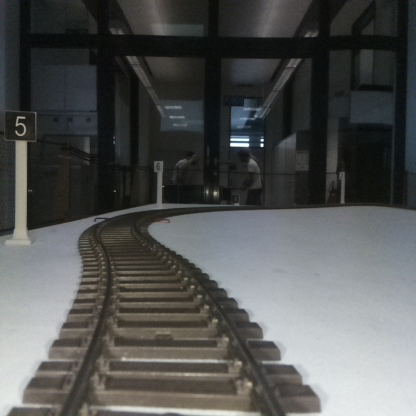black-info-5: (5, 112, 35, 242)
white-info-6: (154, 161, 163, 208)
